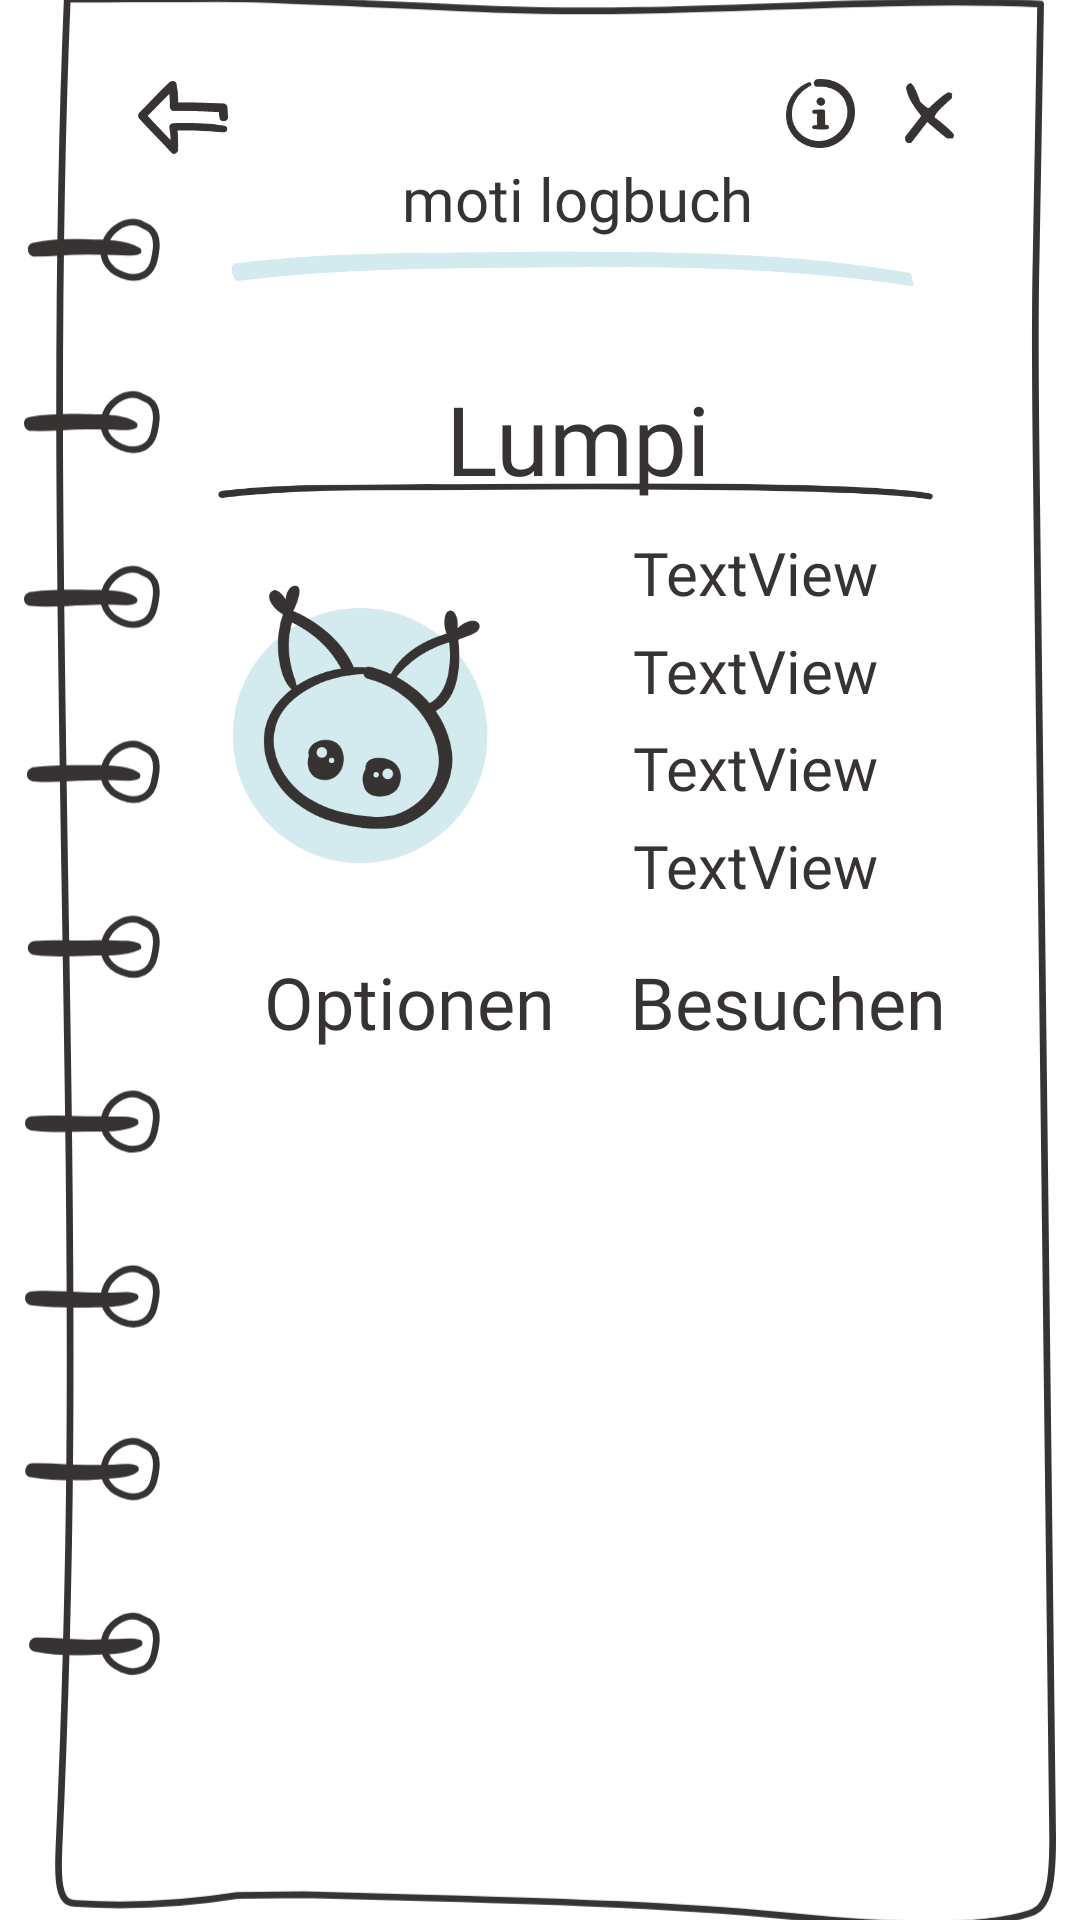

Icons on this 1080×1920 Android screen, each with the point to tap as [x,y]:
arrow: [183,117]
info: [820,113]
